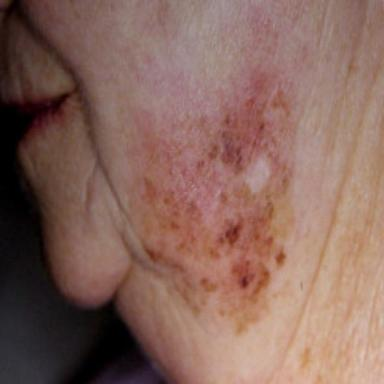Melanoma: (125, 67, 301, 337)
